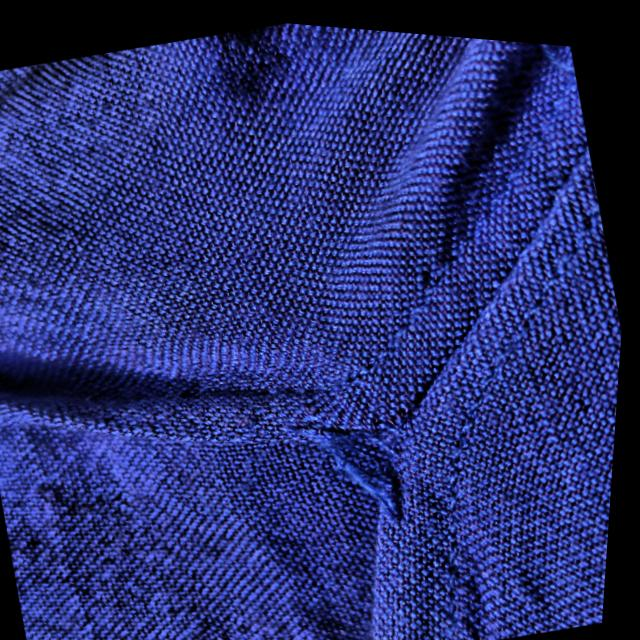Stitch: (251, 359, 468, 578)
